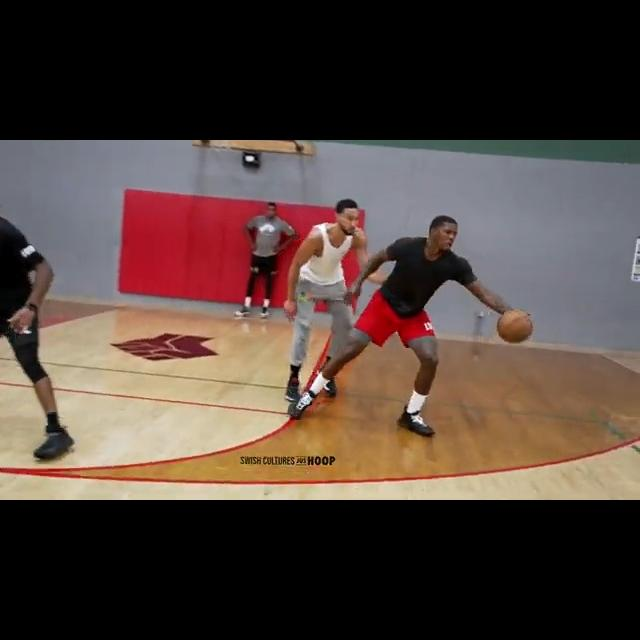basketball: (497, 308, 534, 345)
hoop: (211, 140, 231, 154)
